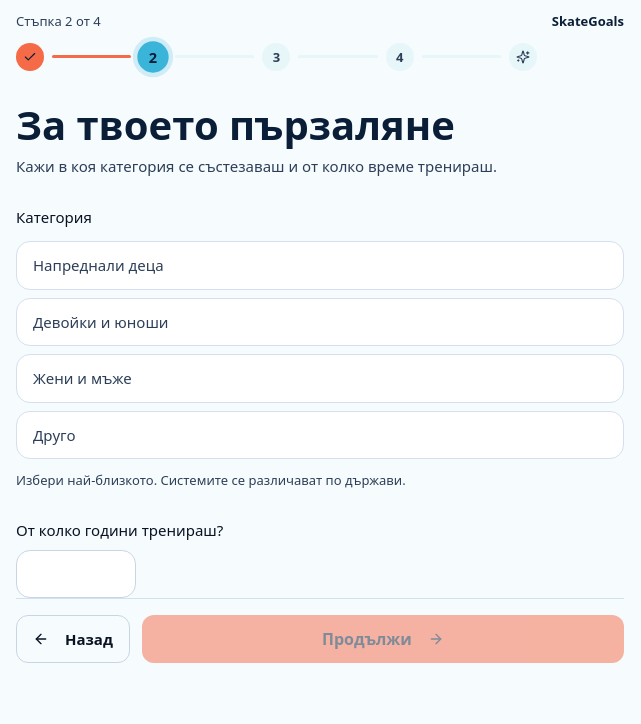
it: signup welcome screen name › greets the skater by the name they typed, not a fixed one
Earlier steps of the test are not shown.
Click the button "Девойки и юноши": (101,322) 16,298 -> 624,346
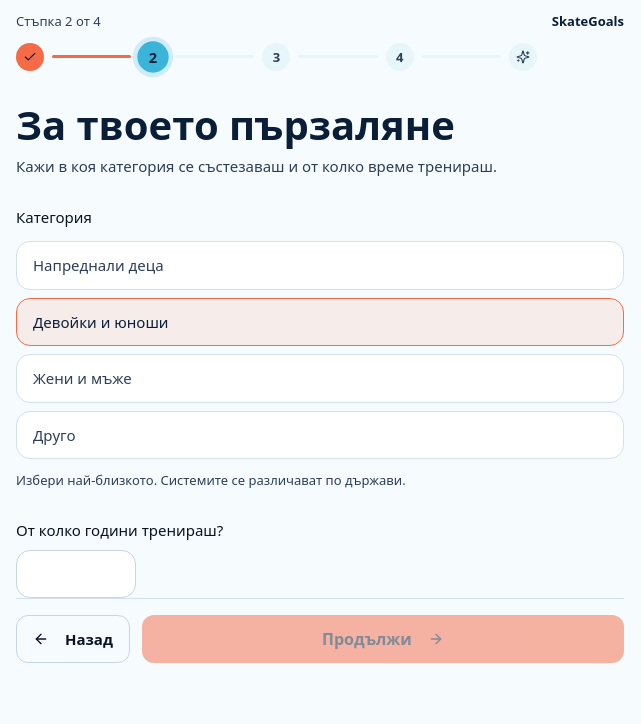
In the number field labelled "От колко години тренираш?": (76,574) 16,550 -> 136,598, type "5"
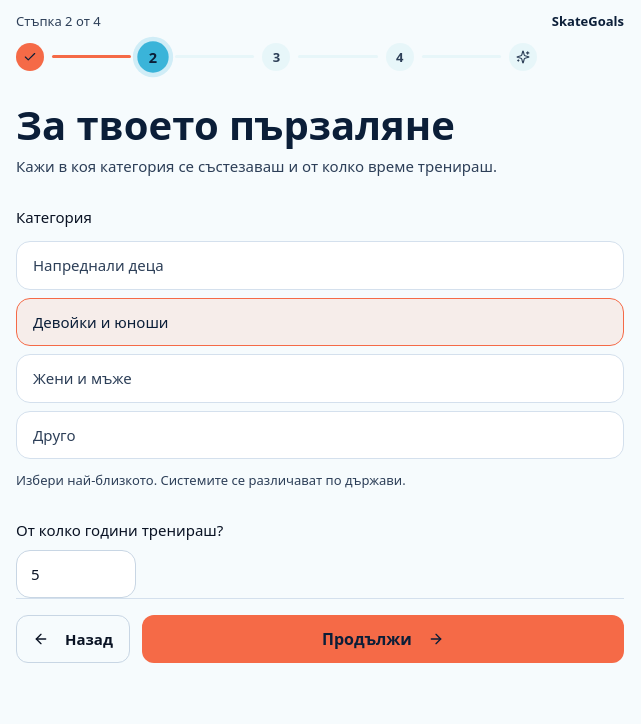
Click the button "Продължи": (383,639) 142,615 -> 624,663
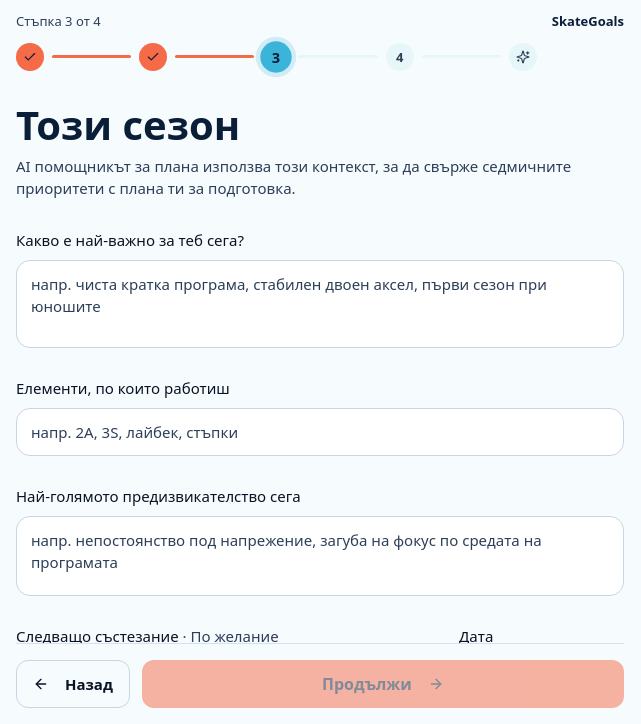
Replace the text in the text box labelled "Какво е най-важно за теб сега?" with "Stable double axel": (320,304) 16,260 -> 624,348
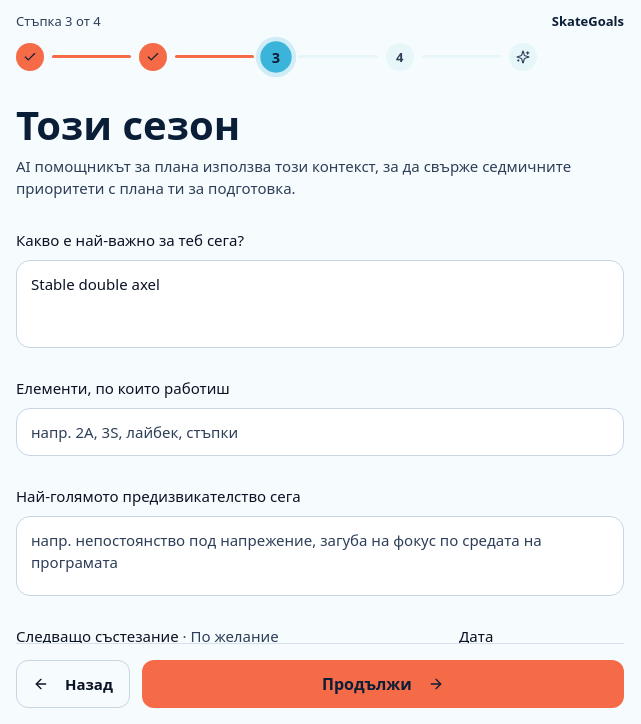
Click the button "Продължи": (383,684) 142,660 -> 624,708
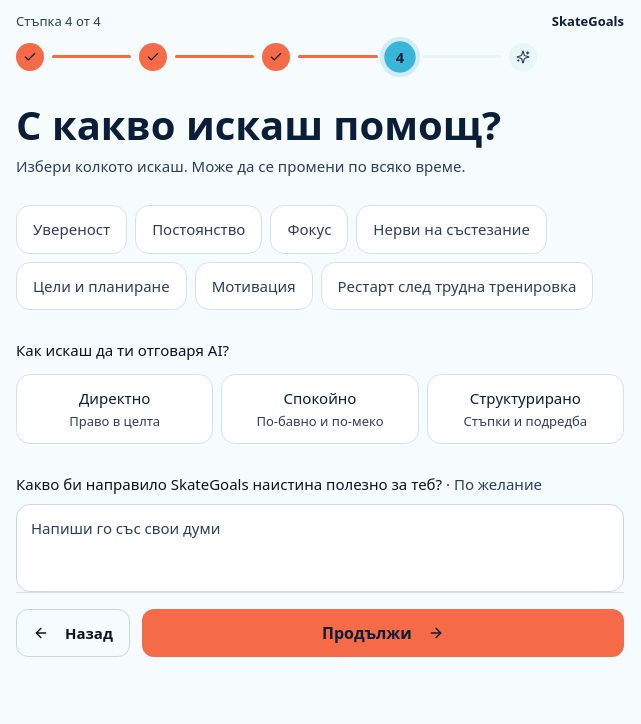
Click the button "Продължи": (383,633) 142,609 -> 624,657
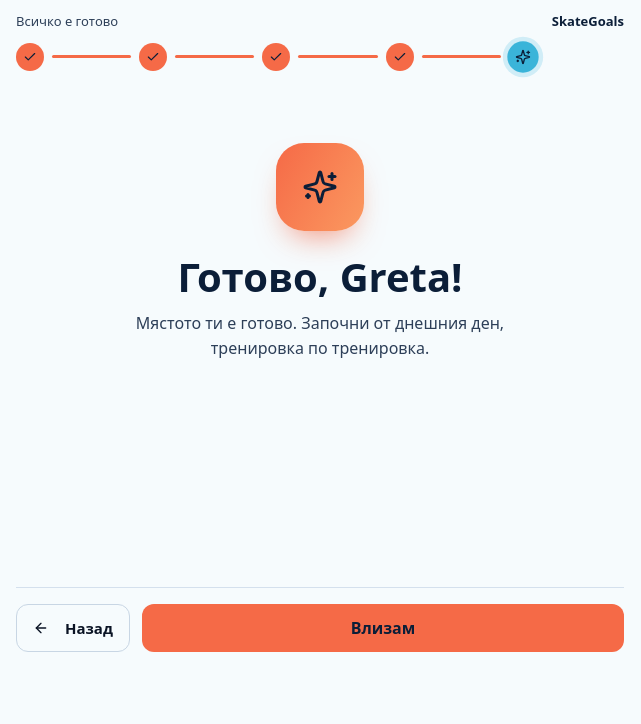
Now the heading "Готово, Greta!" is shown, box 177,255 -> 462,299
